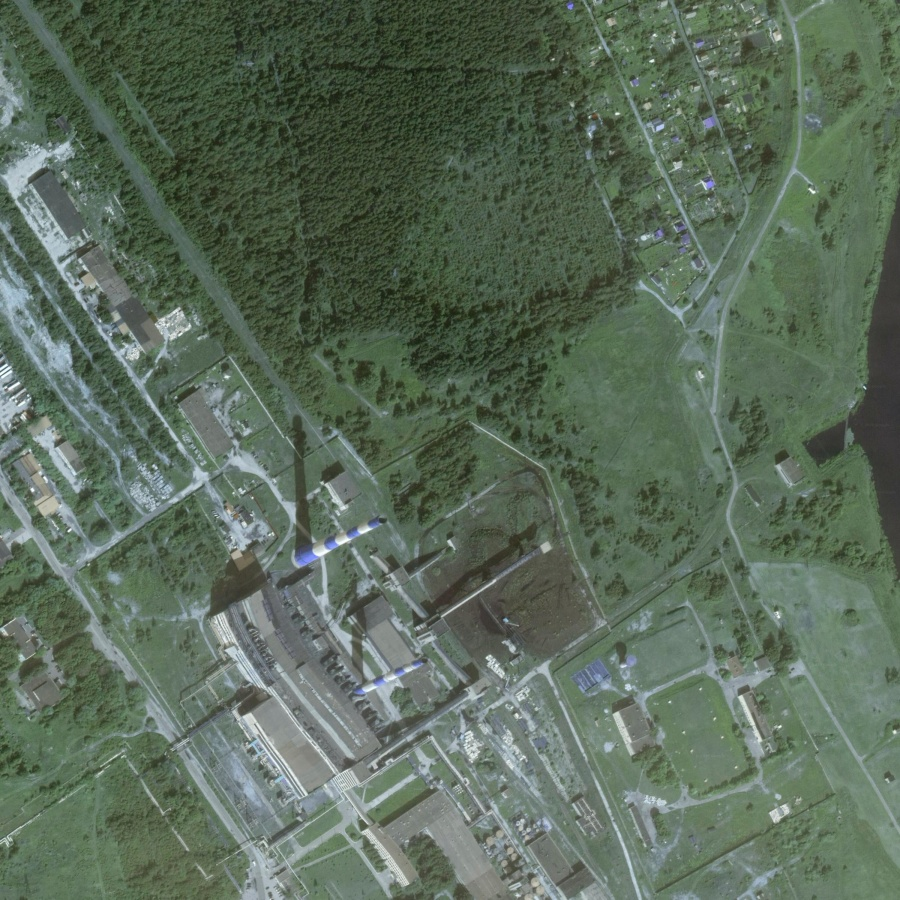PowerPlant: (261, 442, 567, 825)
